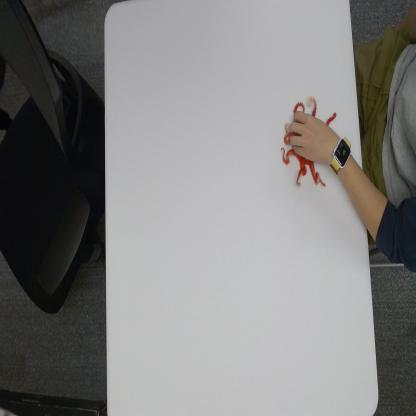Arm: (354, 159, 416, 268)
Hand: (288, 110, 334, 166)
Octopus: (280, 92, 337, 190)
